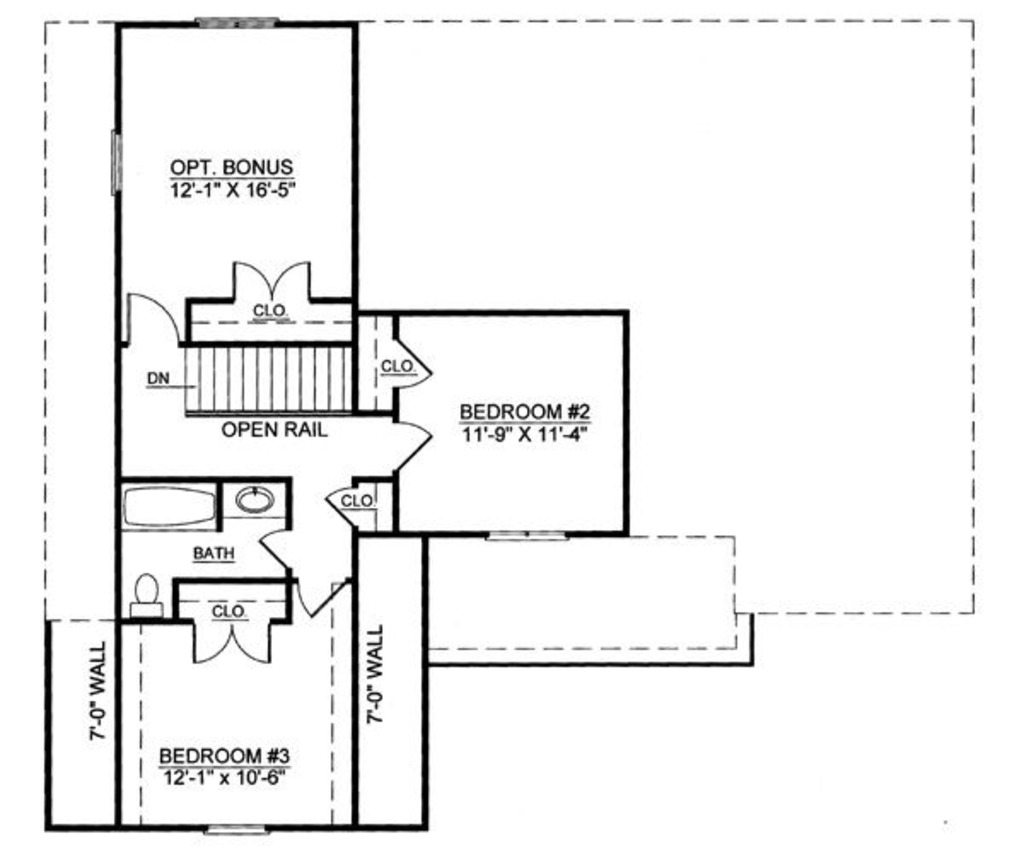door: (186, 621, 275, 669), (228, 258, 314, 303), (122, 291, 177, 349), (392, 419, 435, 476), (386, 336, 435, 385), (295, 577, 349, 619), (251, 527, 291, 572), (320, 483, 359, 529)
large_sink: (126, 570, 169, 619)
small_sink: (222, 480, 288, 522)
stairs: (146, 340, 362, 418)
tub: (120, 483, 217, 538)
window: (482, 528, 569, 544), (206, 822, 276, 841), (105, 129, 123, 196)
